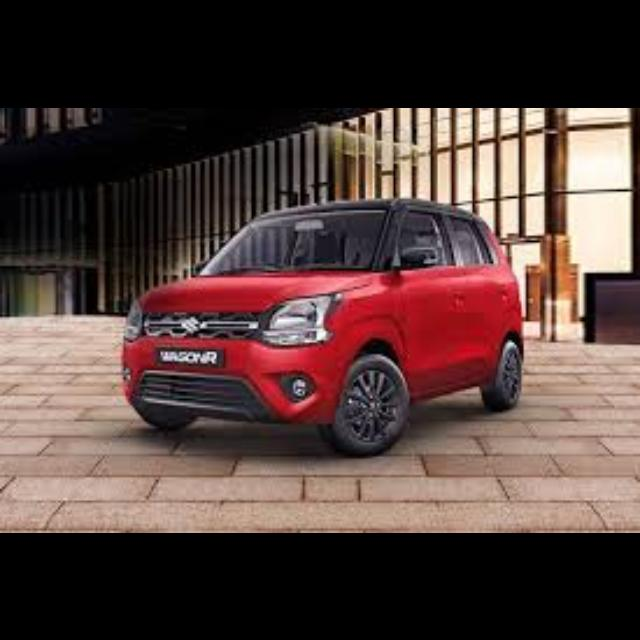number-plate: (154, 347, 221, 366)
vehicles: (114, 194, 528, 457)
